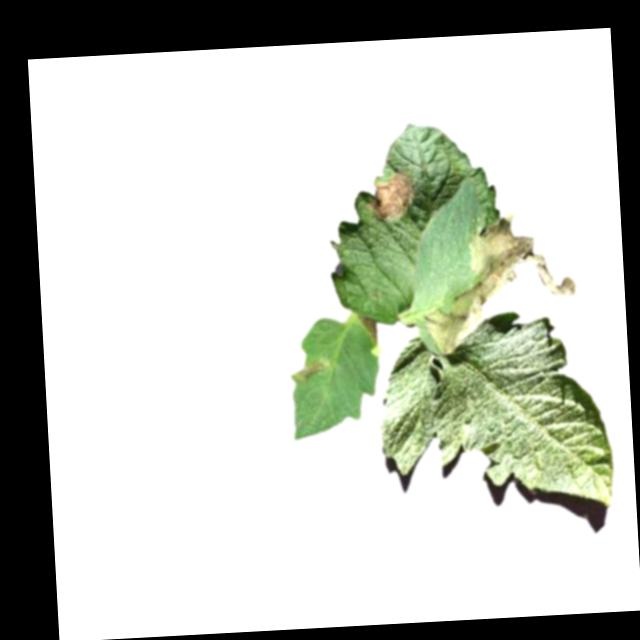Late_blight: (416, 207, 581, 354), (358, 168, 416, 224), (289, 357, 331, 382), (357, 313, 379, 344)
healthy: (371, 307, 616, 518)
